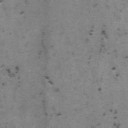oxide scale of temperature system: (2, 30, 62, 118), (70, 2, 128, 78), (90, 108, 121, 128), (0, 0, 24, 14), (98, 87, 102, 92)
